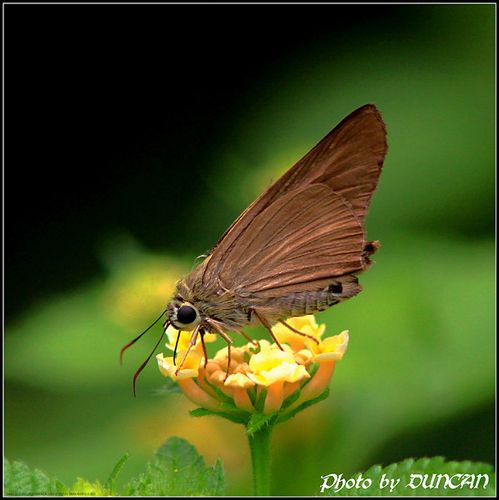Hesperiidae: (119, 101, 394, 399)
